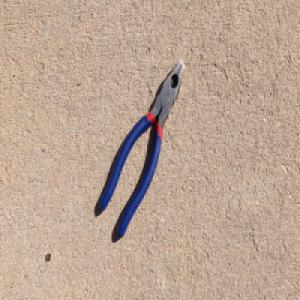Pliers: (97, 58, 185, 242)
